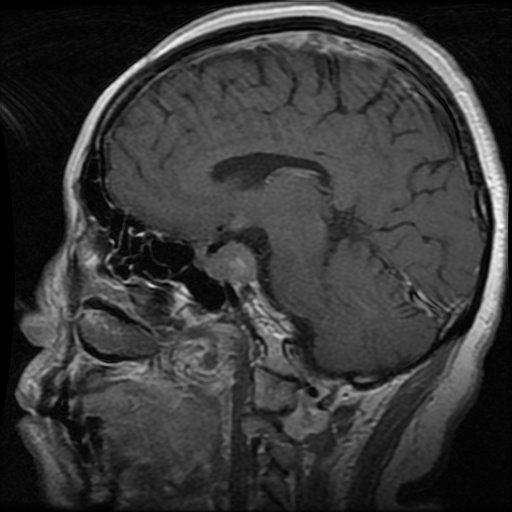pituitary: (195, 240, 255, 280)
